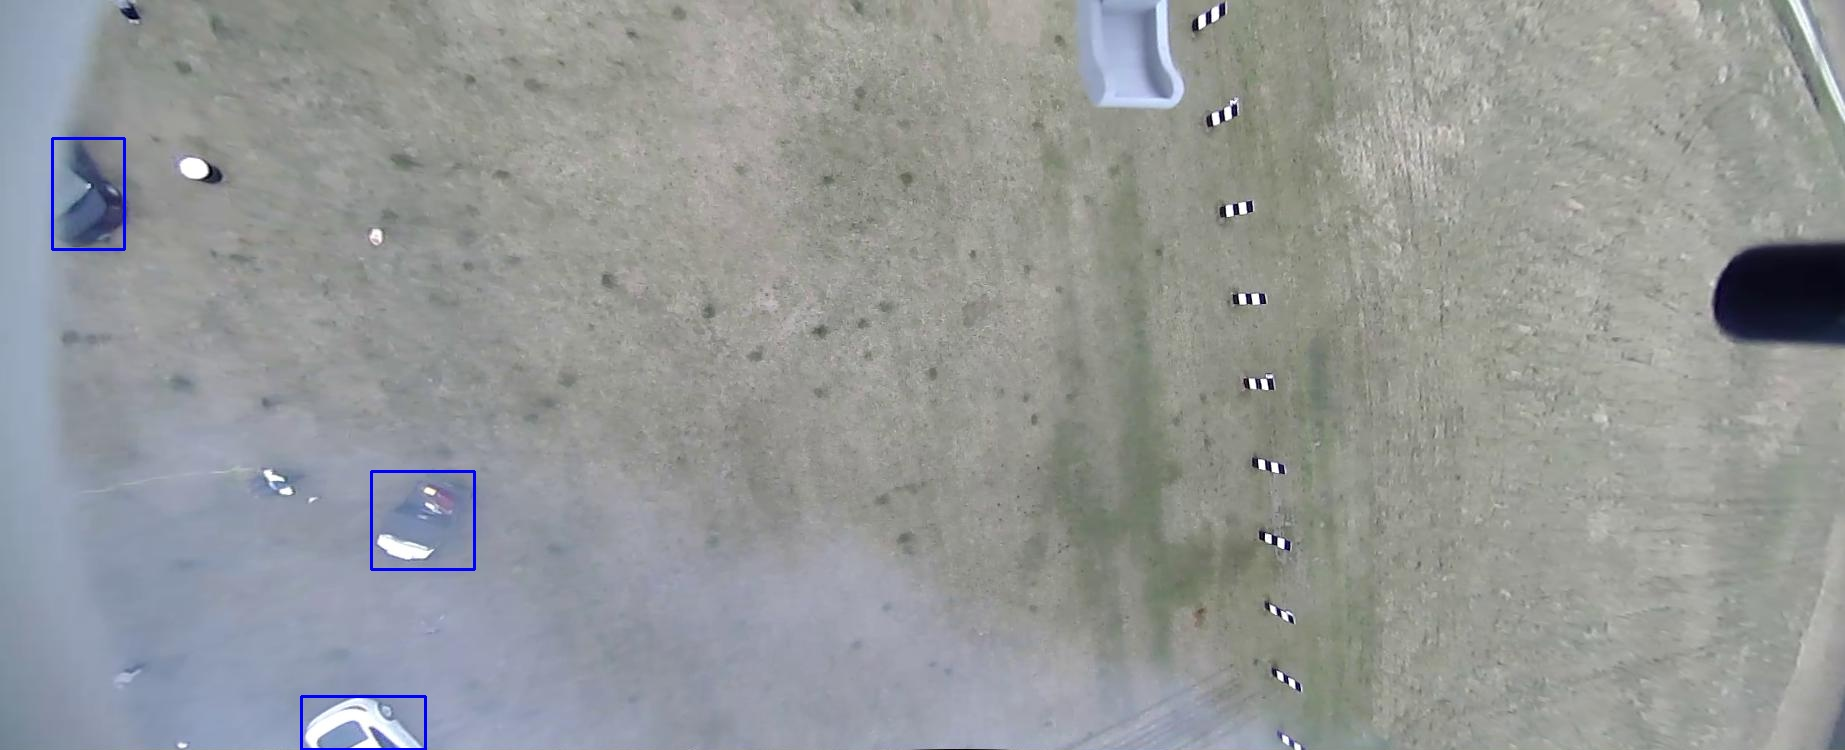vehicle: (471, 371, 570, 474), (138, 52, 249, 124), (697, 301, 750, 425)
